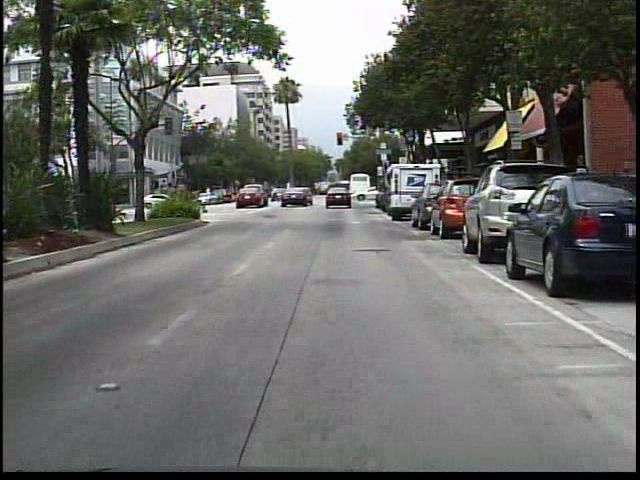person: (268, 181, 283, 206), (285, 183, 299, 205)
